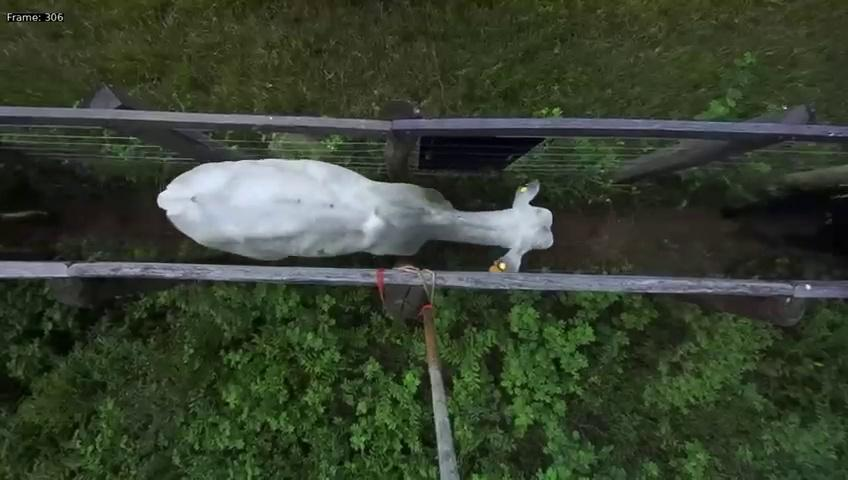cattle: (154, 124, 553, 271)
